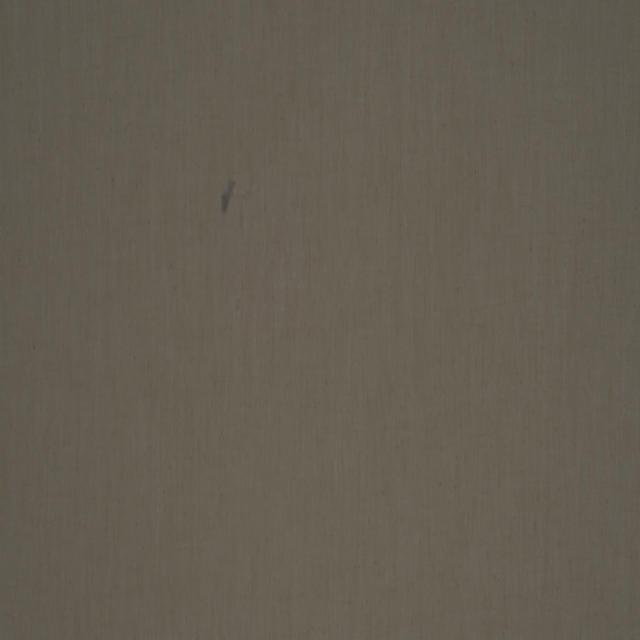dirty: (219, 172, 237, 217)
